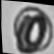correct: (10, 1, 54, 54)
